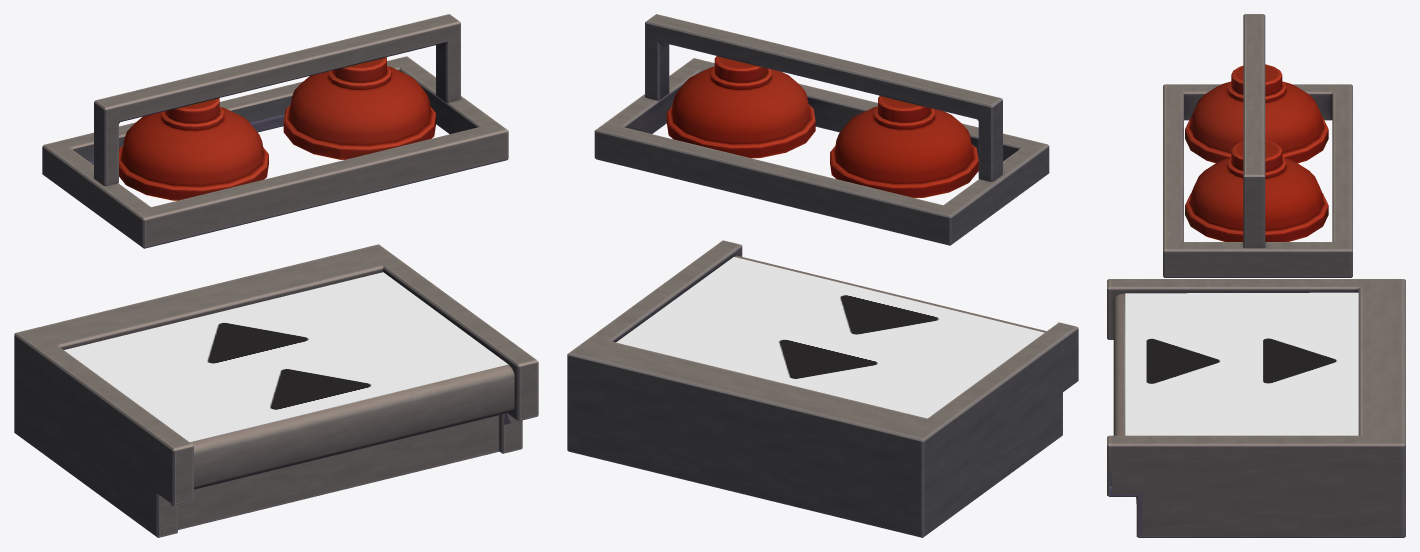
The model's file is serveDishes.gltf.
The picture shows the model from 3 angles, left to right: view 1: azimuth 30°, elevation 25°; view 2: azimuth 150°, elevation 25°; view 3: azimuth 270°, elevation 25°; orthographic projection. The views are drawn at different scales.
Parts seen in each view (by area): view 1: Object_4.003, direction; view 2: Object_4.003, direction; view 3: Object_4.003, direction.
Boxes of the visible parts, x1,y1,x2,y2 form: Object_4.003: (14, 14, 538, 537); direction: (64, 272, 508, 441); Object_4.003: (567, 14, 1078, 537); direction: (616, 257, 1044, 418); Object_4.003: (1107, 14, 1405, 537); direction: (1125, 292, 1358, 435).
Bounding box in the file's own units: 4 × 4.05 × 3.04.
Materials: 2 (2 with a texture image).
